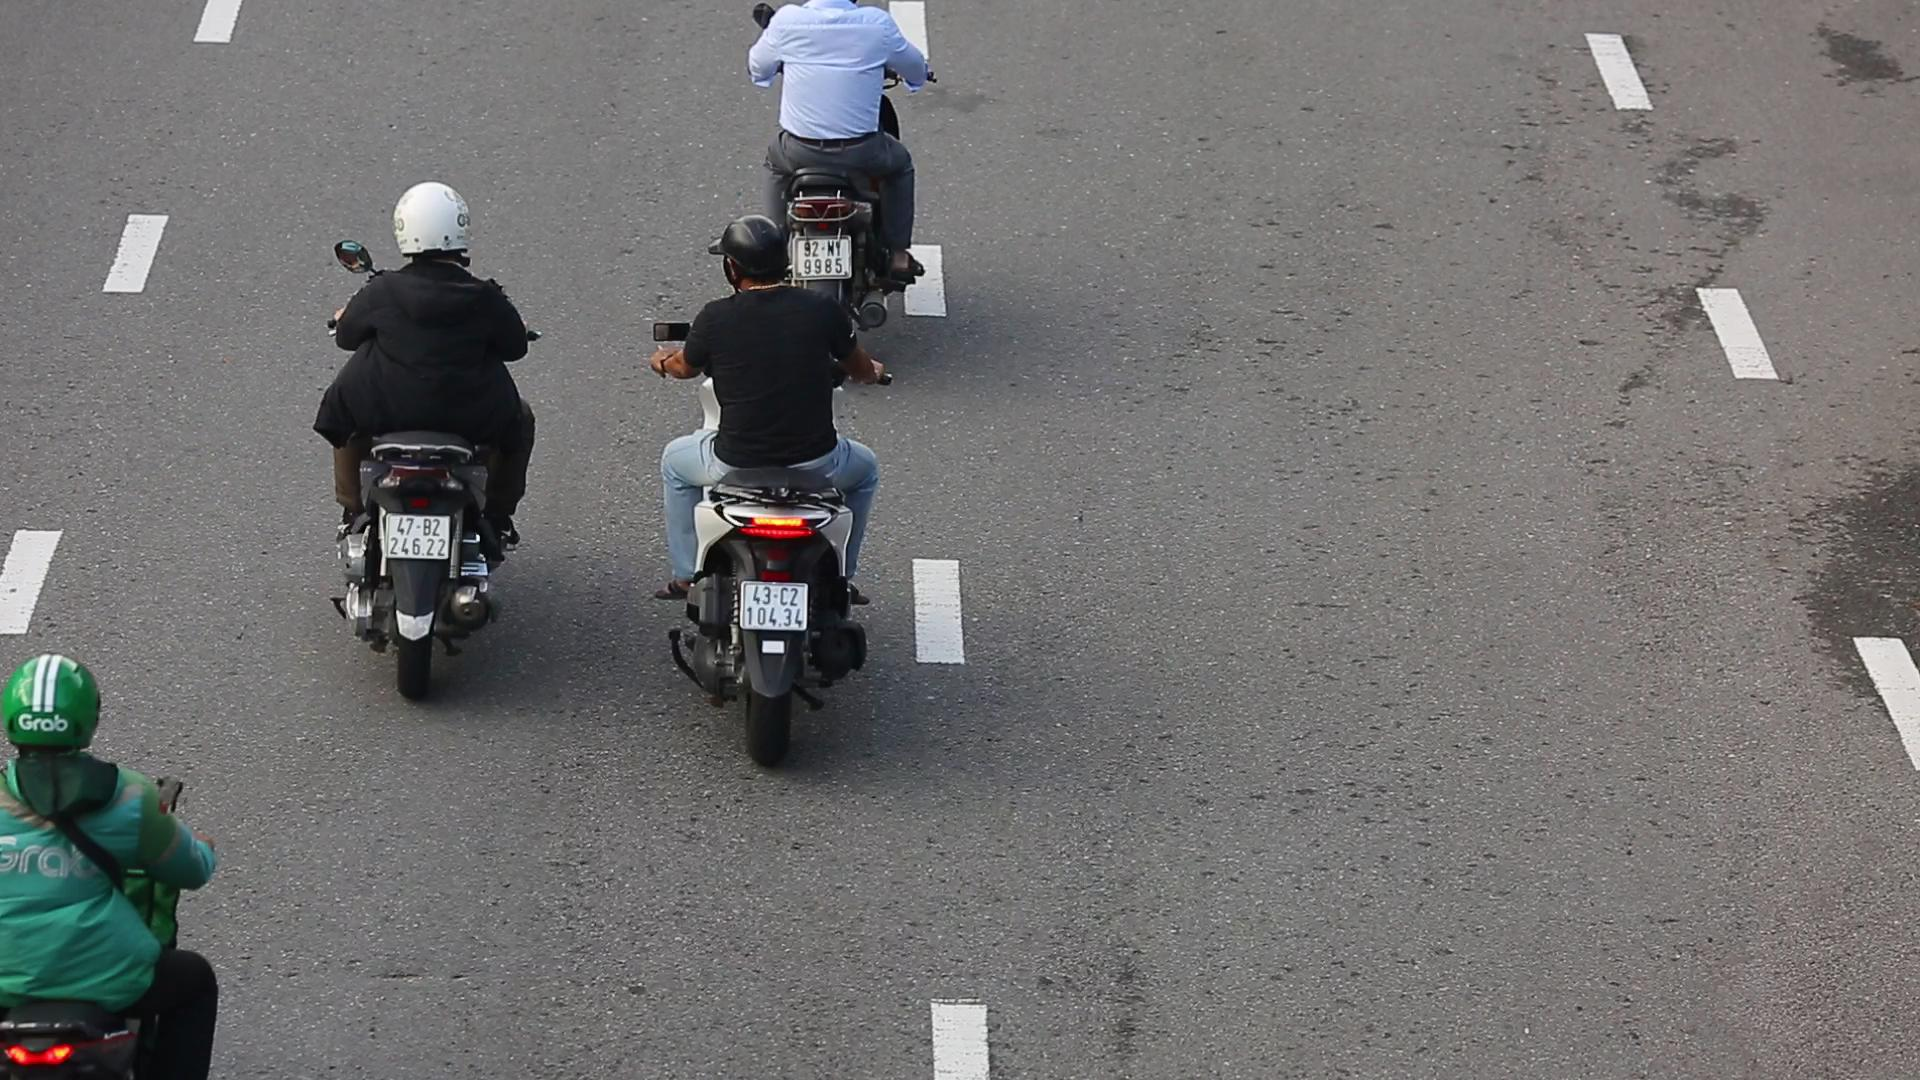motobike: (644, 206, 901, 744), (303, 181, 545, 694)
